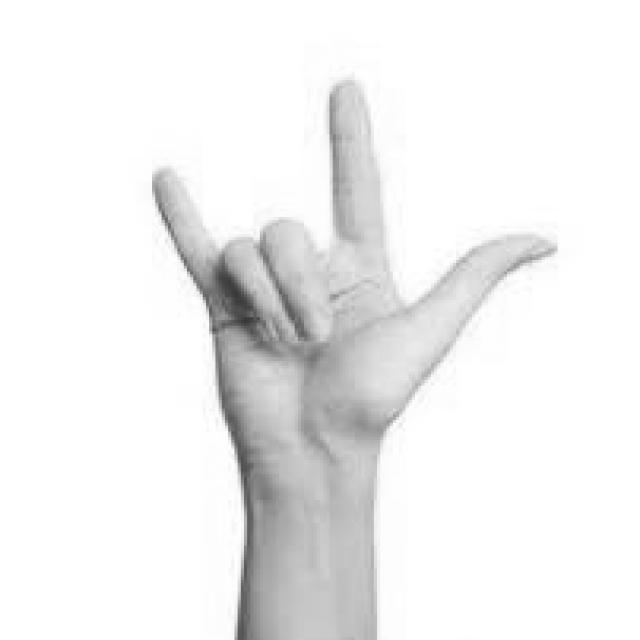i love you: (140, 68, 565, 513)
